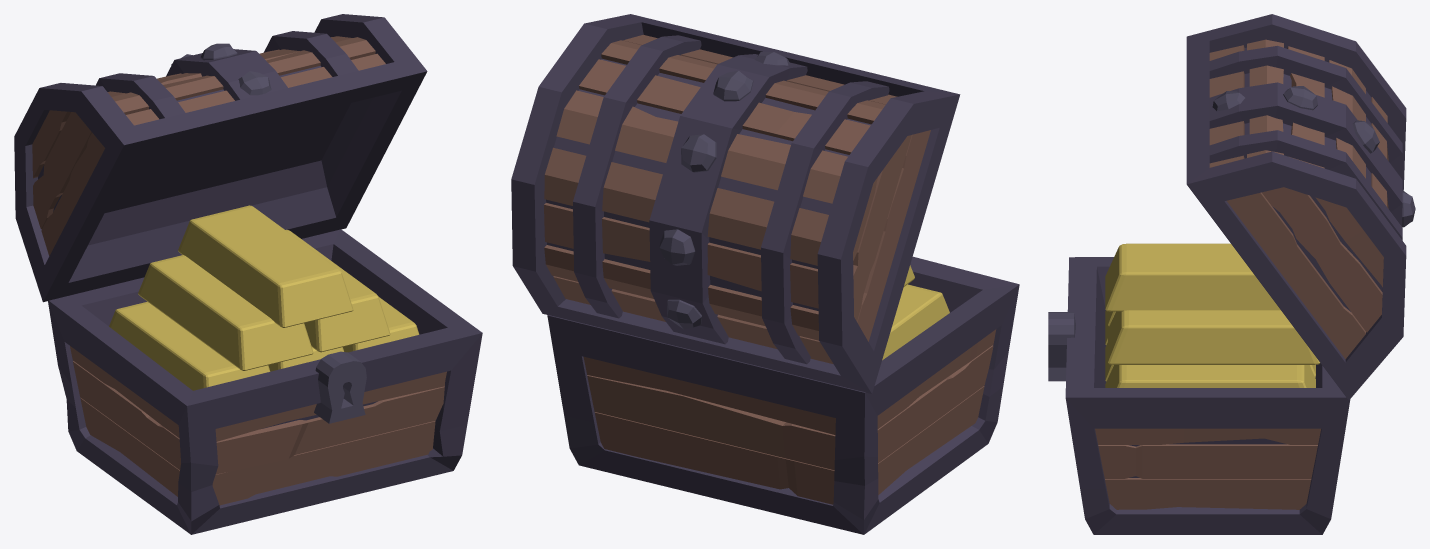
The model's file is Chest.gltf.
The picture shows the model from 3 angles, left to right: view 1: azimuth 30°, elevation 25°; view 2: azimuth 150°, elevation 25°; view 3: azimuth 270°, elevation 25°; orthographic projection. The views are drawn at different scales.
Visible parts, largest first — view 1: Chest_Ingots; view 2: Chest_Ingots; view 3: Chest_Ingots.
Boxes of the visible parts, box(x1,y1,x2,y2) form: Chest_Ingots: box(14, 14, 482, 534); Chest_Ingots: box(511, 14, 1019, 534); Chest_Ingots: box(1048, 14, 1415, 534).
Bounding box in the file's own units: 0.9496 × 1.15 × 0.9962.
